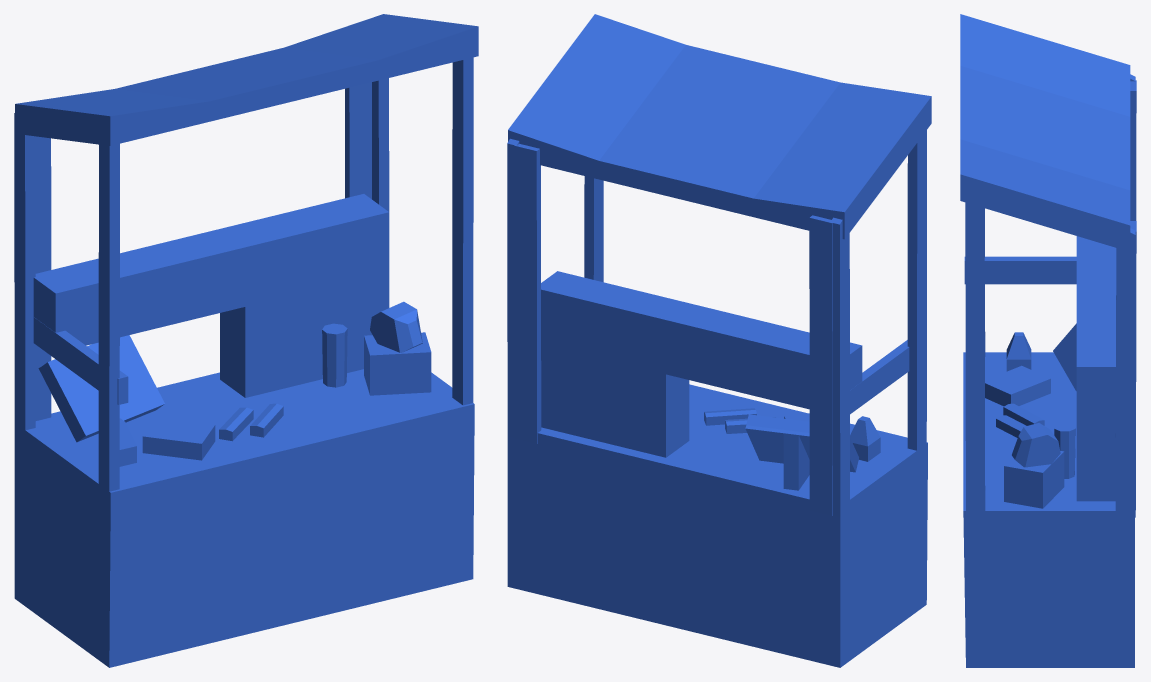
Rendered from Collision_Stall_Potions.fbx.
3 views of the same model, side by side, from view 1: azimuth 30°, elevation 25°; view 2: azimuth 150°, elevation 25°; view 3: azimuth 270°, elevation 25° (orthographic). The views are drawn at different scales.
Visible parts, largest first — view 1: UCX_Stall_Potions_01, UCX_Stall_Potions_02, UCX_Stall_Potions_03, UCX_Stall_Potions_06, UCX_Stall_Potions_07, UCX_Stall_Potions_09, UCX_Stall_Potions_08, UCX_Stall_Potions_05, UCX_Stall_Potions_10, UCX_Stall_Potions_20, UCX_Stall_Potions_14, UCX_Stall_Potions_12 (+8 smaller); view 2: UCX_Stall_Potions_01, UCX_Stall_Potions_06, UCX_Stall_Potions_02, UCX_Stall_Potions_07, UCX_Stall_Potions_05, UCX_Stall_Potions_03, UCX_Stall_Potions_13, UCX_Stall_Potions_12, UCX_Stall_Potions_08, UCX_Stall_Potions_10, UCX_Stall_Potions_11, UCX_Stall_Potions_20 (+4 smaller); view 3: UCX_Stall_Potions_01, UCX_Stall_Potions_06, UCX_Stall_Potions_05, UCX_Stall_Potions_07, UCX_Stall_Potions_02, UCX_Stall_Potions_09, UCX_Stall_Potions_11, UCX_Stall_Potions_03, UCX_Stall_Potions_04, UCX_Stall_Potions_14, UCX_Stall_Potions_16, UCX_Stall_Potions_22 (+7 smaller).
Boxes of the visible parts, left/top/right/bottom form: UCX_Stall_Potions_01: left=14, top=369, right=474, bottom=667; UCX_Stall_Potions_02: left=33, top=194, right=389, bottom=345; UCX_Stall_Potions_03: left=220, top=272, right=389, bottom=397; UCX_Stall_Potions_06: left=115, top=47, right=378, bottom=121; UCX_Stall_Potions_07: left=15, top=89, right=209, bottom=145; UCX_Stall_Potions_09: left=452, top=57, right=473, bottom=405; UCX_Stall_Potions_08: left=98, top=143, right=119, bottom=502; UCX_Stall_Potions_05: left=284, top=14, right=478, bottom=80; UCX_Stall_Potions_10: left=14, top=113, right=35, bottom=430; UCX_Stall_Potions_20: left=38, top=335, right=164, bottom=442; UCX_Stall_Potions_14: left=364, top=332, right=431, bottom=395; UCX_Stall_Potions_12: left=35, top=136, right=51, bottom=420; UCX_Stall_Potions_01: left=507, top=384, right=927, bottom=667; UCX_Stall_Potions_06: left=599, top=45, right=840, bottom=216; UCX_Stall_Potions_02: left=541, top=271, right=862, bottom=409; UCX_Stall_Potions_07: left=753, top=82, right=931, bottom=239; UCX_Stall_Potions_05: left=508, top=14, right=685, bottom=179; UCX_Stall_Potions_03: left=541, top=344, right=689, bottom=457; UCX_Stall_Potions_13: left=514, top=144, right=541, bottom=443; UCX_Stall_Potions_12: left=809, top=215, right=832, bottom=515; UCX_Stall_Potions_08: left=907, top=130, right=926, bottom=455; UCX_Stall_Potions_10: left=831, top=217, right=849, bottom=517; UCX_Stall_Potions_11: left=507, top=138, right=519, bottom=437; UCX_Stall_Potions_20: left=745, top=414, right=858, bottom=472; UCX_Stall_Potions_01: left=963, top=352, right=1134, bottom=667; UCX_Stall_Potions_06: left=960, top=66, right=1130, bottom=190; UCX_Stall_Potions_05: left=960, top=139, right=1130, bottom=251; UCX_Stall_Potions_07: left=960, top=14, right=1130, bottom=116; UCX_Stall_Potions_02: left=1076, top=236, right=1116, bottom=419; UCX_Stall_Potions_09: left=965, top=202, right=985, bottom=510; UCX_Stall_Potions_11: left=1115, top=228, right=1135, bottom=510; UCX_Stall_Potions_03: left=1076, top=420, right=1115, bottom=501; UCX_Stall_Potions_04: left=964, top=256, right=1076, bottom=284; UCX_Stall_Potions_14: left=1004, top=451, right=1064, bottom=508; UCX_Stall_Potions_16: left=985, top=365, right=1050, bottom=406; UCX_Stall_Potions_22: left=1012, top=423, right=1060, bottom=467.
Size of the model in its own units: 182 by 262 by 84.5.
